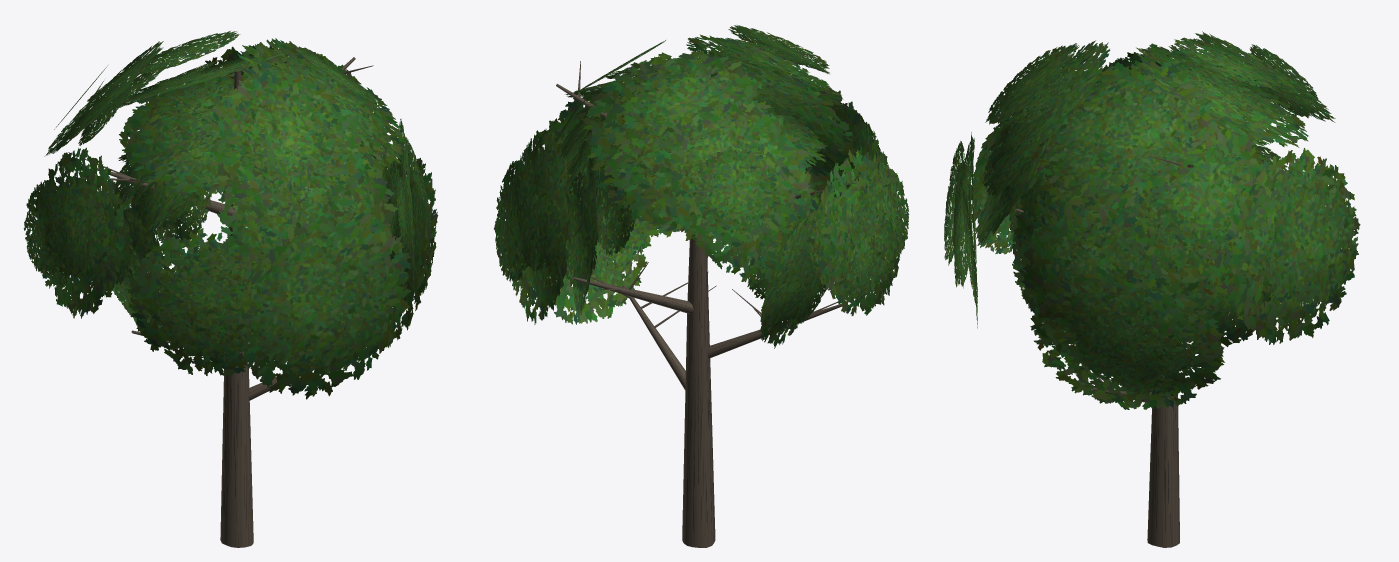
File: Oak_LOD0.fbx
The picture shows the model from 3 angles, left to right: view 1: azimuth 30°, elevation 25°; view 2: azimuth 150°, elevation 25°; view 3: azimuth 270°, elevation 25°; orthographic projection.
Parts seen in each view (by area): view 1: Oak_LOD0; view 2: Oak_LOD0; view 3: Oak_LOD0.
Part boxes in pixels (box(x1,y1,x2,y2)): Oak_LOD0: box(23, 31, 438, 547); Oak_LOD0: box(494, 25, 909, 547); Oak_LOD0: box(944, 31, 1360, 547).
Bounding box in the file's own units: 11.82 × 15.16 × 12.05.
1 material, 1 textured.
